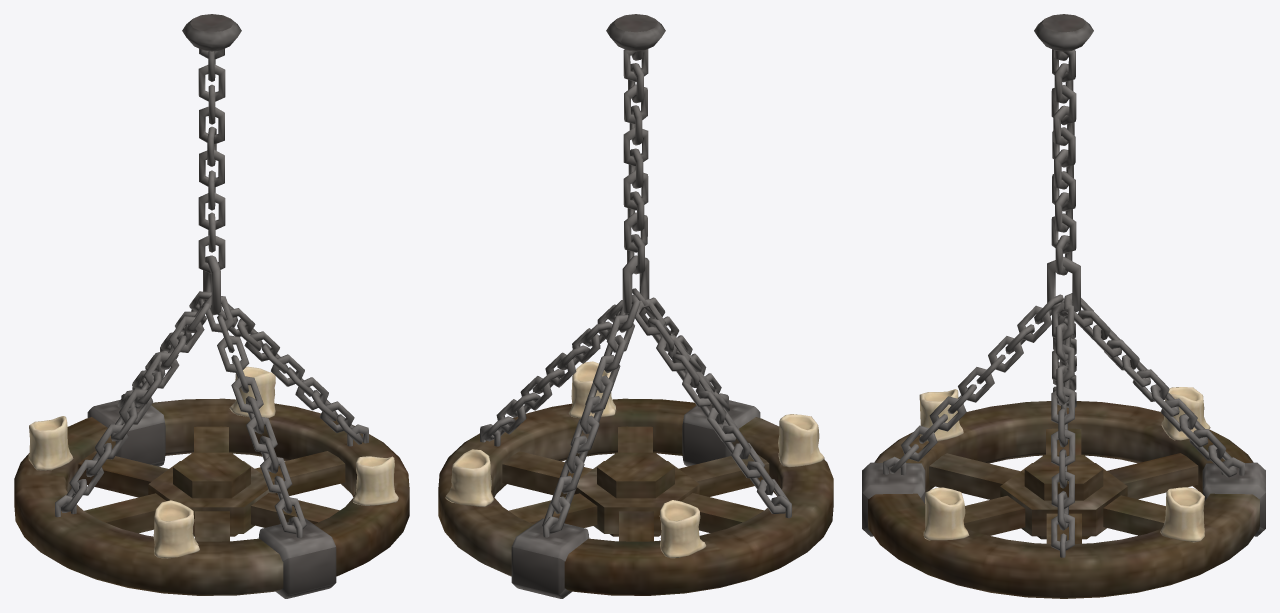
Rendered from comfort_t1_illuminationceiling_chandelier.glb.
The picture shows the model from 3 angles, left to right: view 1: azimuth 30°, elevation 25°; view 2: azimuth 150°, elevation 25°; view 3: azimuth 270°, elevation 25°; orthographic projection.
Visible parts, largest first — view 1: castleprops_chandelier_02_a; view 2: castleprops_chandelier_02_a; view 3: castleprops_chandelier_02_a.
Part boxes in pixels (<box>): castleprops_chandelier_02_a: <box>14,14,409,598</box>; castleprops_chandelier_02_a: <box>438,14,833,598</box>; castleprops_chandelier_02_a: <box>862,14,1265,598</box>.
Size of the model in its own units: 1.53 by 2.13 by 1.55.
Materials: 3 (3 with a texture image).
